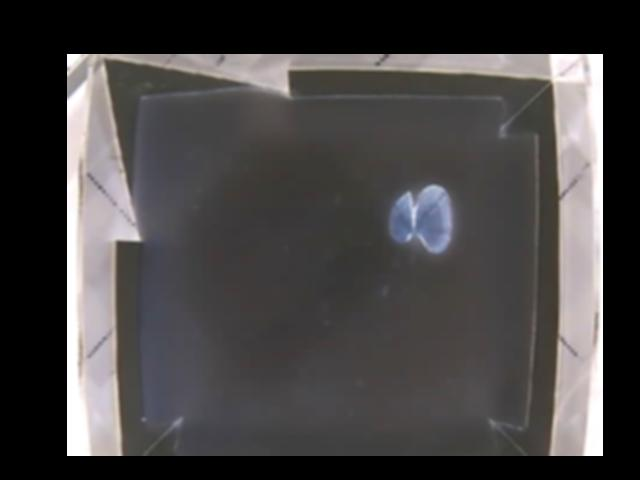Shell: (387, 184, 453, 254)
